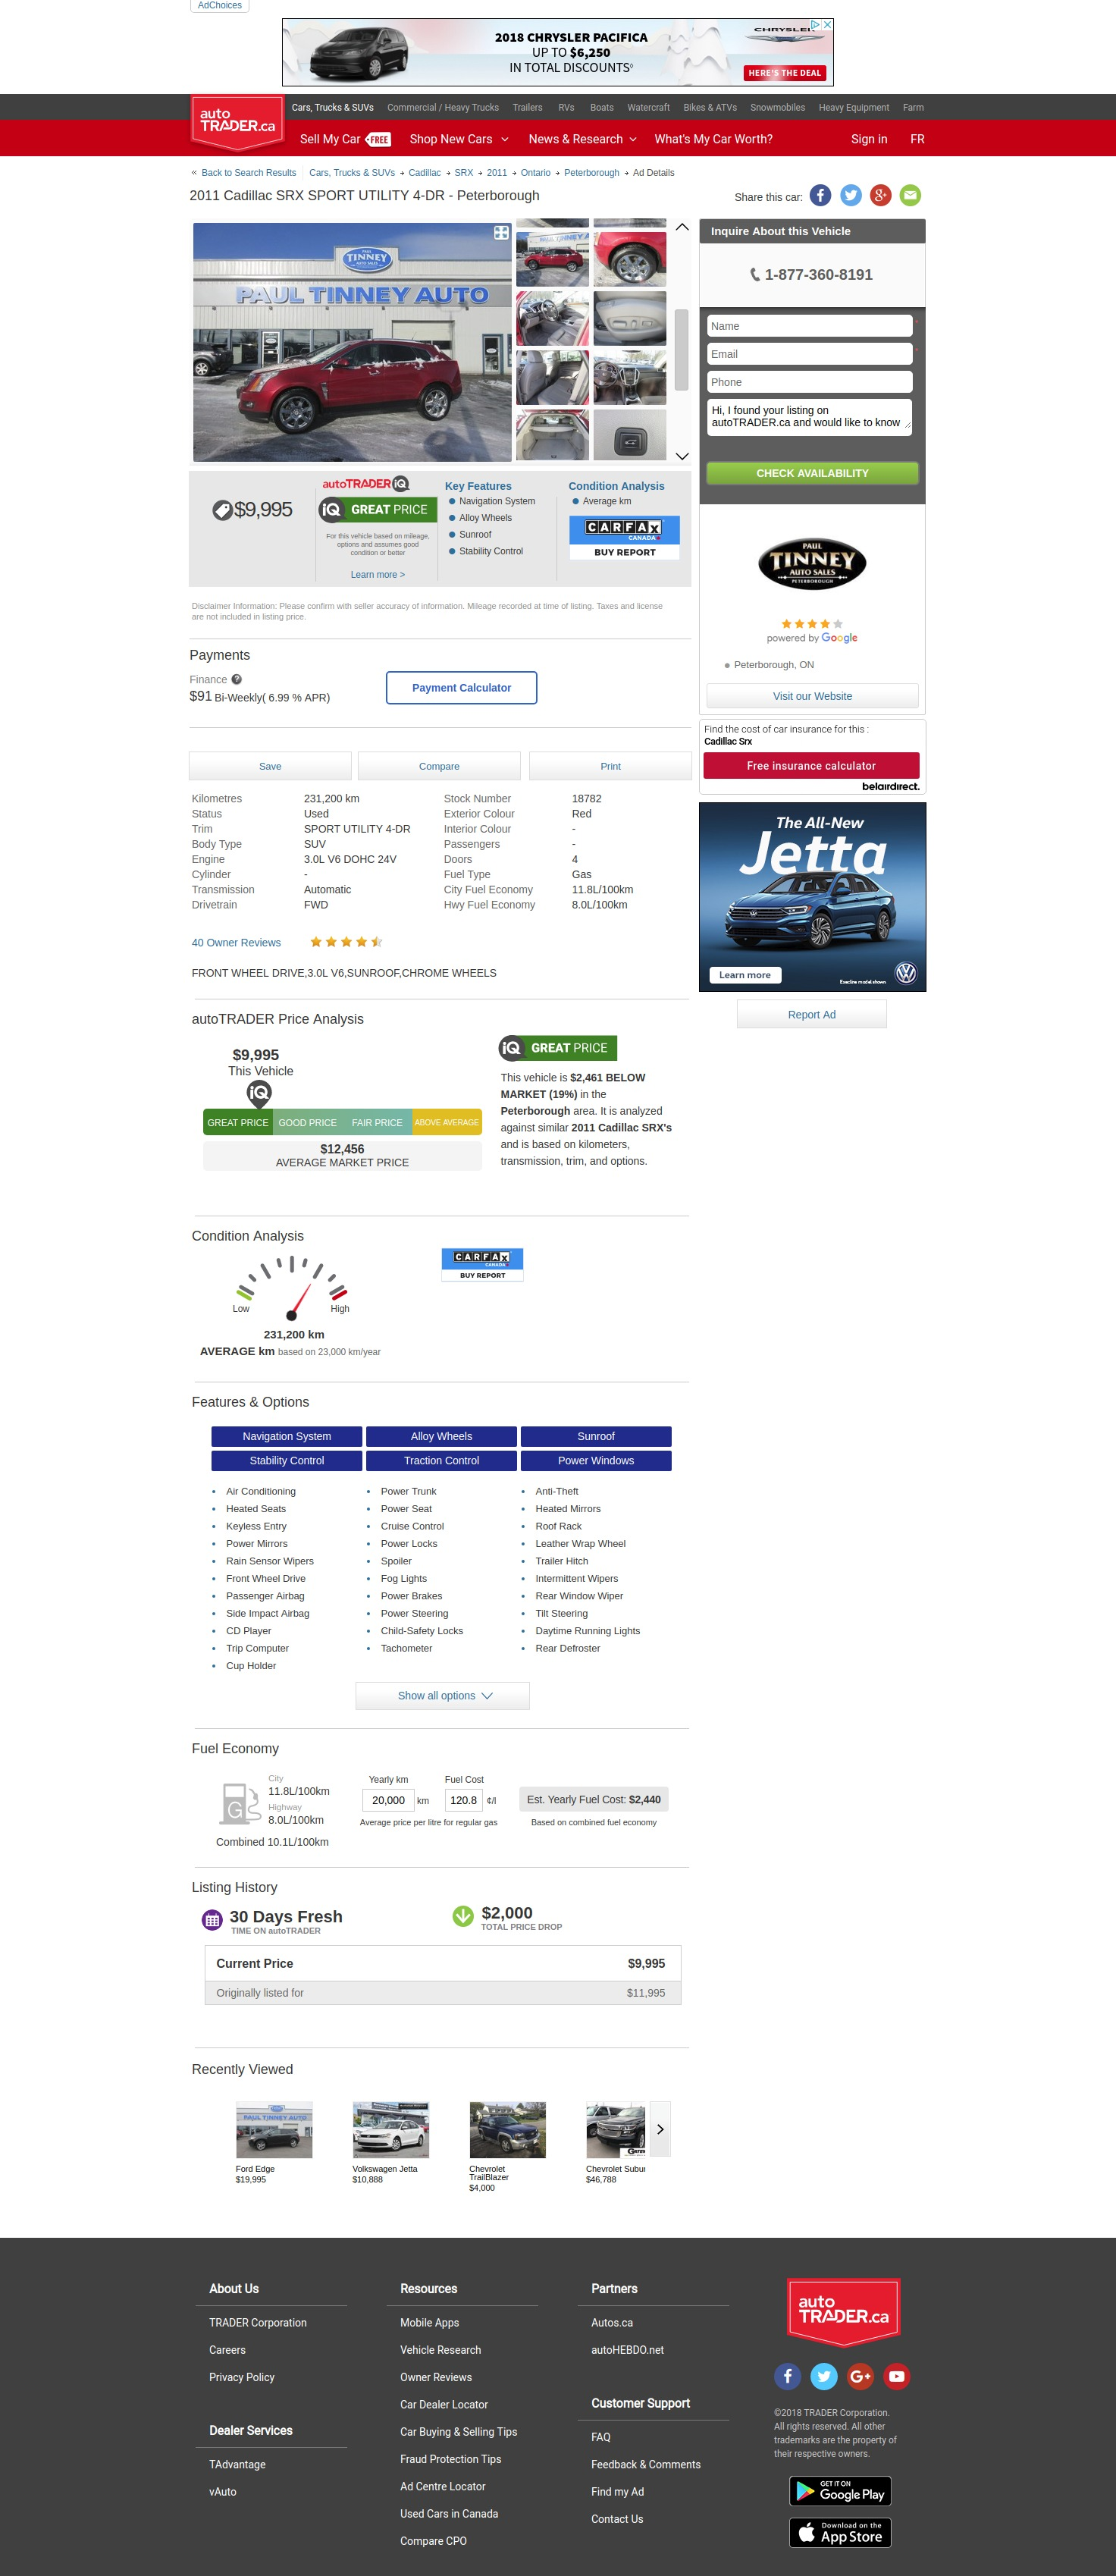car: (676, 450, 690, 463)
